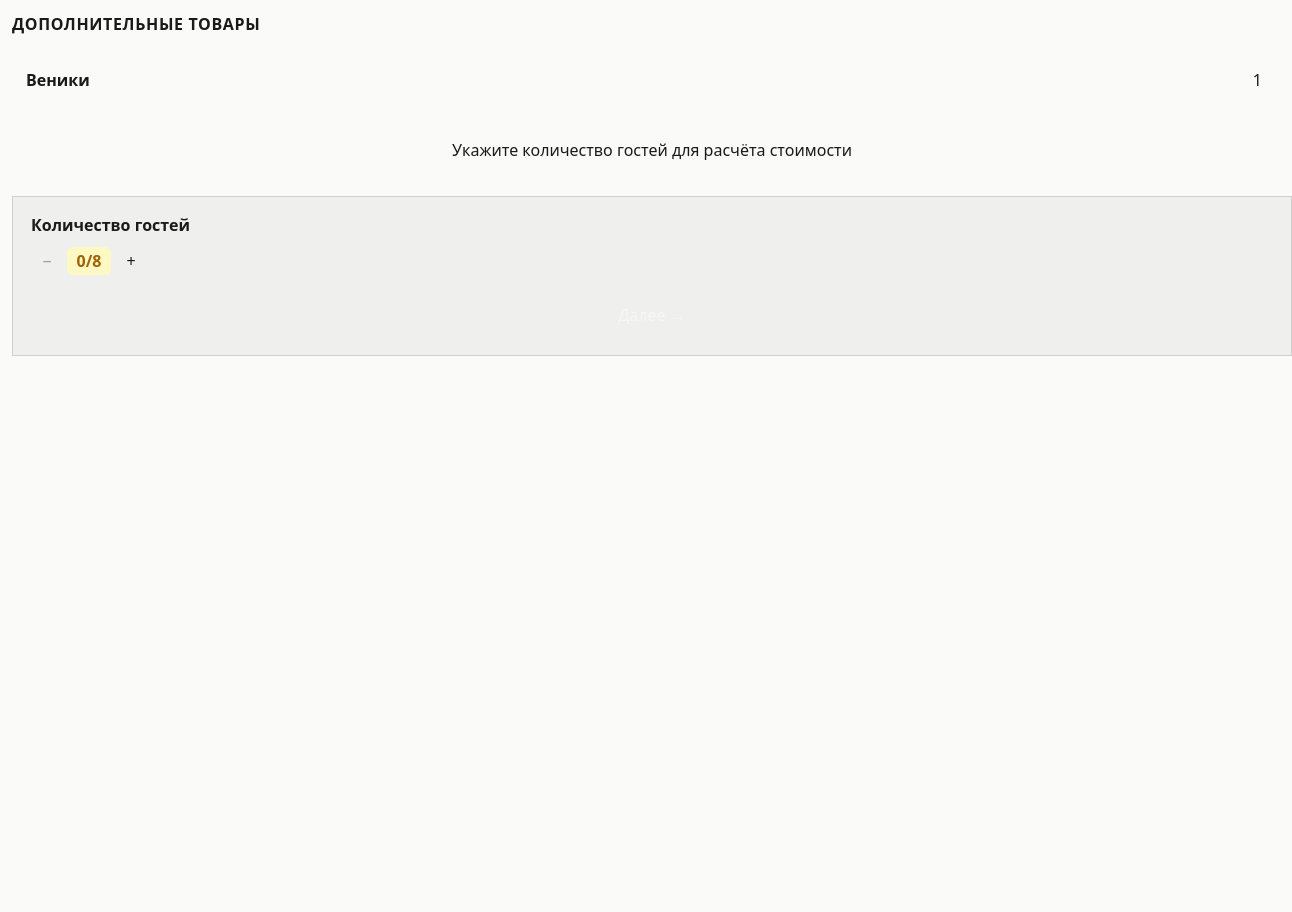
Test case: StepSetup › falls back to slotPrice when API total is 0
Click the button named "Увеличить количество гостей". click: {"x": 131, "y": 261}
box: top-left (115, 245), bottom-right (147, 277)
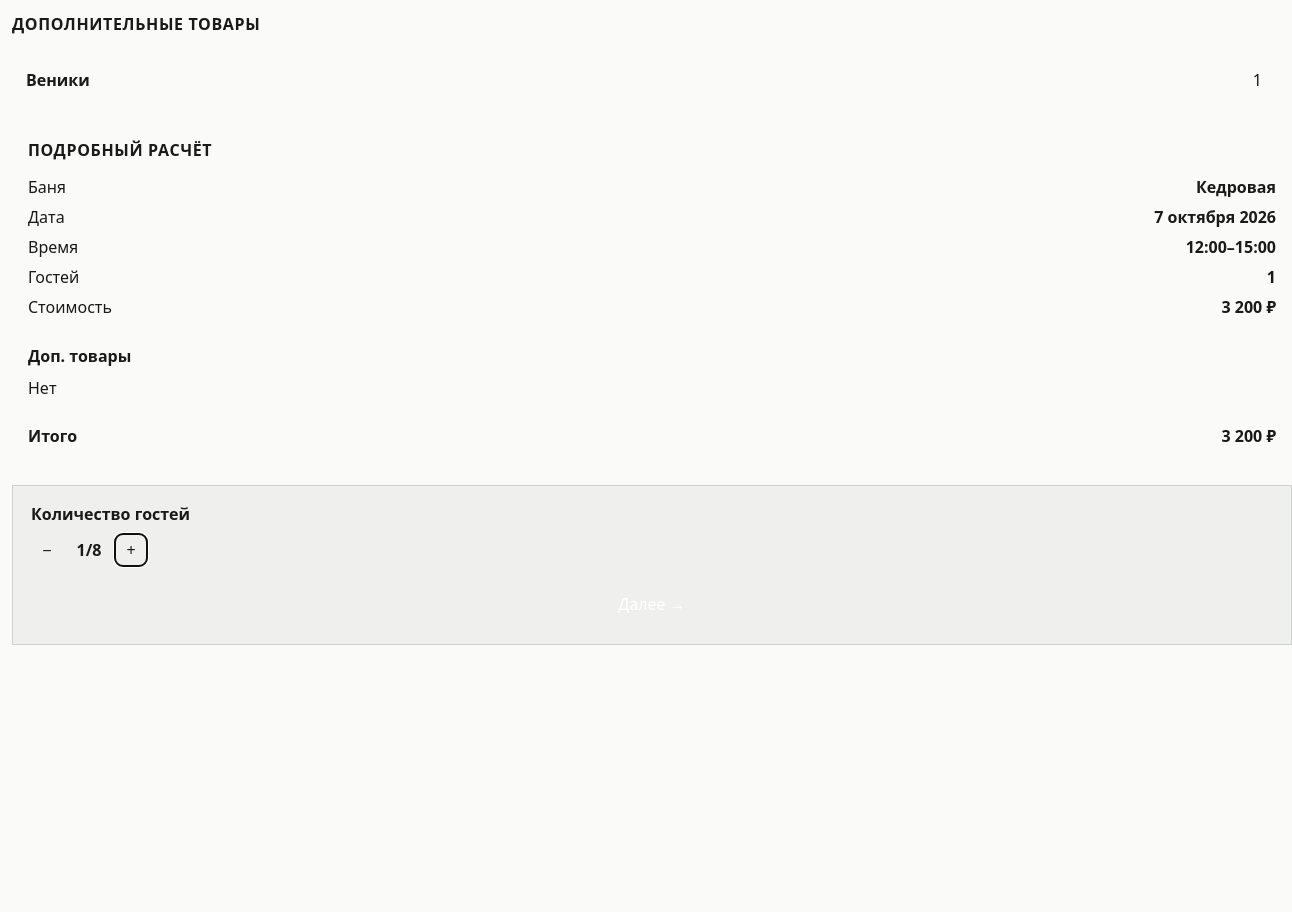
expect the text "3 200 ₽" in the row of "Стоимость" is shown: met, box top-left (1222, 296), bottom-right (1262, 318)
